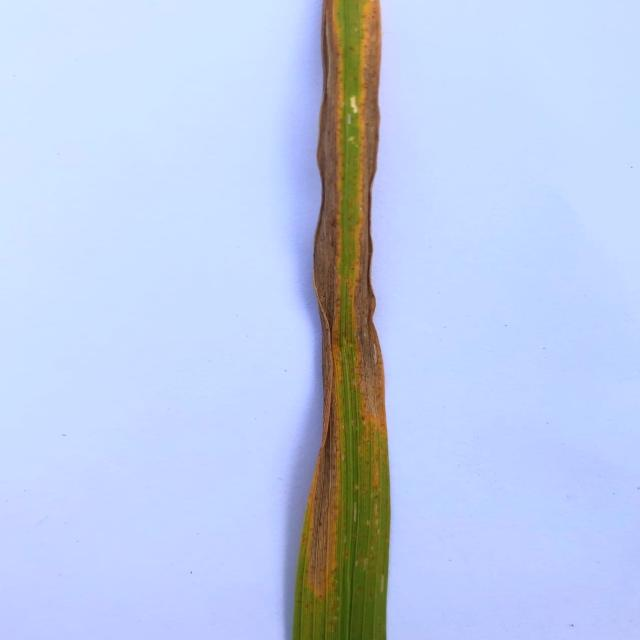tungro: (293, 0, 342, 640), (353, 0, 392, 451)
